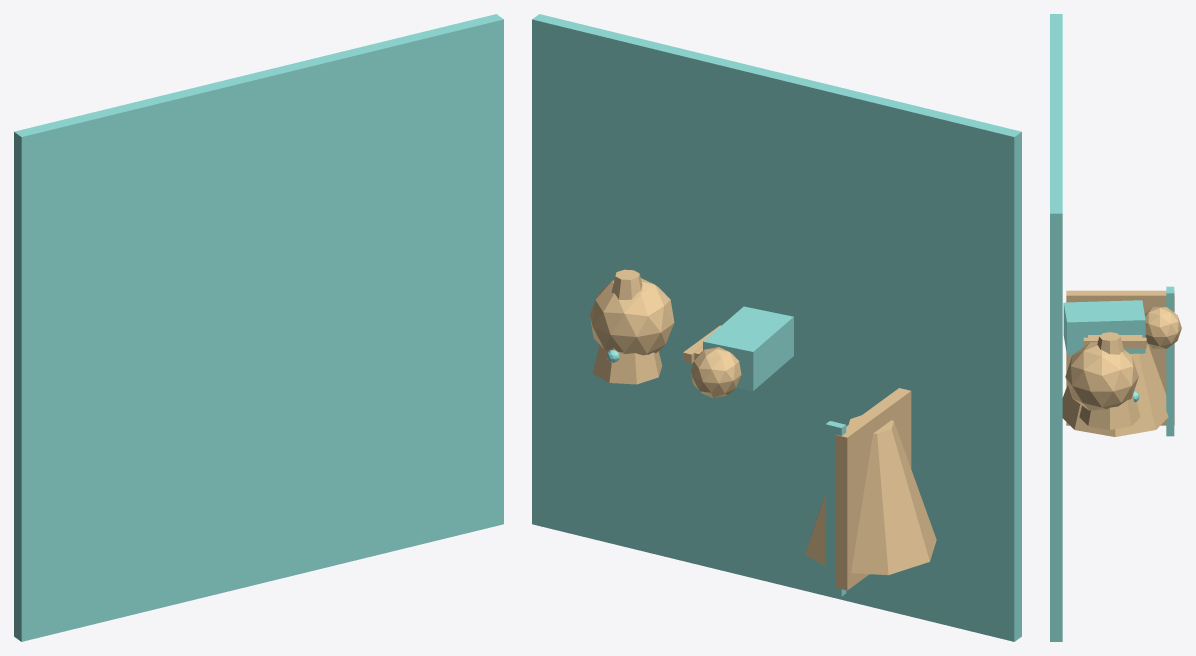
Rendered from crypt-raiders-kit.glb.
3 views of the same model, side by side, from view 1: azimuth 30°, elevation 25°; view 2: azimuth 150°, elevation 25°; view 3: azimuth 270°, elevation 25° (orthographic). The views are drawn at different scales.
Parts seen in each view (by area): view 1: ENVIRONMENT_GROUND; view 2: ENVIRONMENT_GROUND, ENVIRONMENT_LANDMARK, PROFILE_ENVIRONMENT_DETAIL, OBSTACLE, PLAYER_BODY, PROFILE_OBSTACLE_DETAIL, PROFILE_ENVIRONMENT_TRIM, PLAYER_HEAD; view 3: ENVIRONMENT_GROUND, OBSTACLE, PLAYER_BODY, ENVIRONMENT_LANDMARK, PROFILE_ENVIRONMENT_DETAIL, PROFILE_OBSTACLE_DETAIL, PLAYER_HEAD, PROFILE_ENVIRONMENT_TRIM, PLAYER_TOOL.
Part boxes in pixels (x1,y1,x2,y2): ENVIRONMENT_GROUND: [14, 14, 503, 641]; ENVIRONMENT_GROUND: [532, 14, 1021, 641]; ENVIRONMENT_LANDMARK: [805, 415, 936, 575]; PROFILE_ENVIRONMENT_DETAIL: [835, 388, 911, 590]; OBSTACLE: [590, 278, 674, 355]; PLAYER_BODY: [703, 306, 793, 390]; PROFILE_OBSTACLE_DETAIL: [592, 269, 662, 384]; PROFILE_ENVIRONMENT_TRIM: [825, 421, 846, 596]; PLAYER_HEAD: [690, 347, 741, 398]; ENVIRONMENT_GROUND: [1050, 14, 1062, 641]; OBSTACLE: [1065, 342, 1138, 410]; PLAYER_BODY: [1063, 300, 1145, 355]; ENVIRONMENT_LANDMARK: [1062, 344, 1168, 436]; PROFILE_ENVIRONMENT_DETAIL: [1066, 290, 1174, 425]; PROFILE_OBSTACLE_DETAIL: [1079, 332, 1140, 429]; PLAYER_HEAD: [1144, 307, 1181, 348]; PROFILE_ENVIRONMENT_TRIM: [1166, 286, 1174, 436]; PLAYER_TOOL: [1083, 337, 1146, 348].
Size of what is drawn, in the model's own units: 9 by 9 by 2.51.
